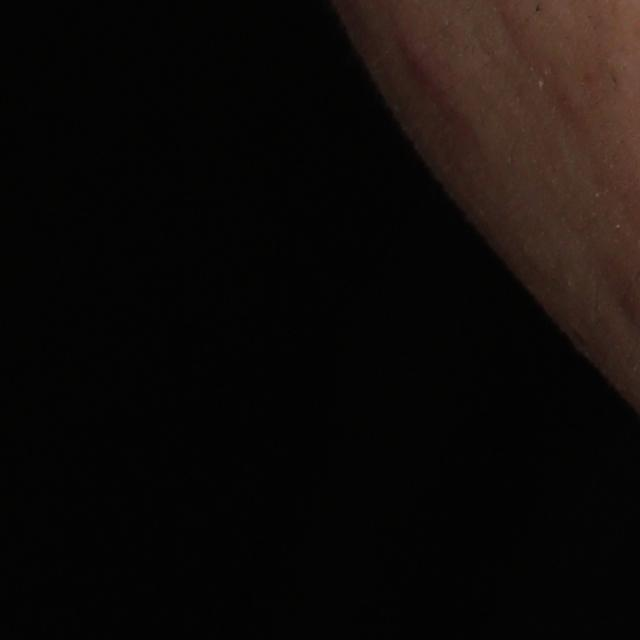papule: (392, 19, 462, 94)
